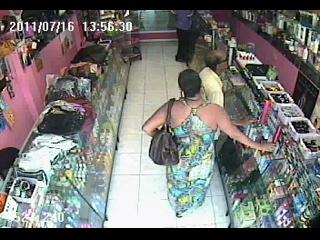Normal: (142, 69, 278, 219), (148, 99, 180, 167), (198, 50, 228, 108), (173, 10, 196, 66)
